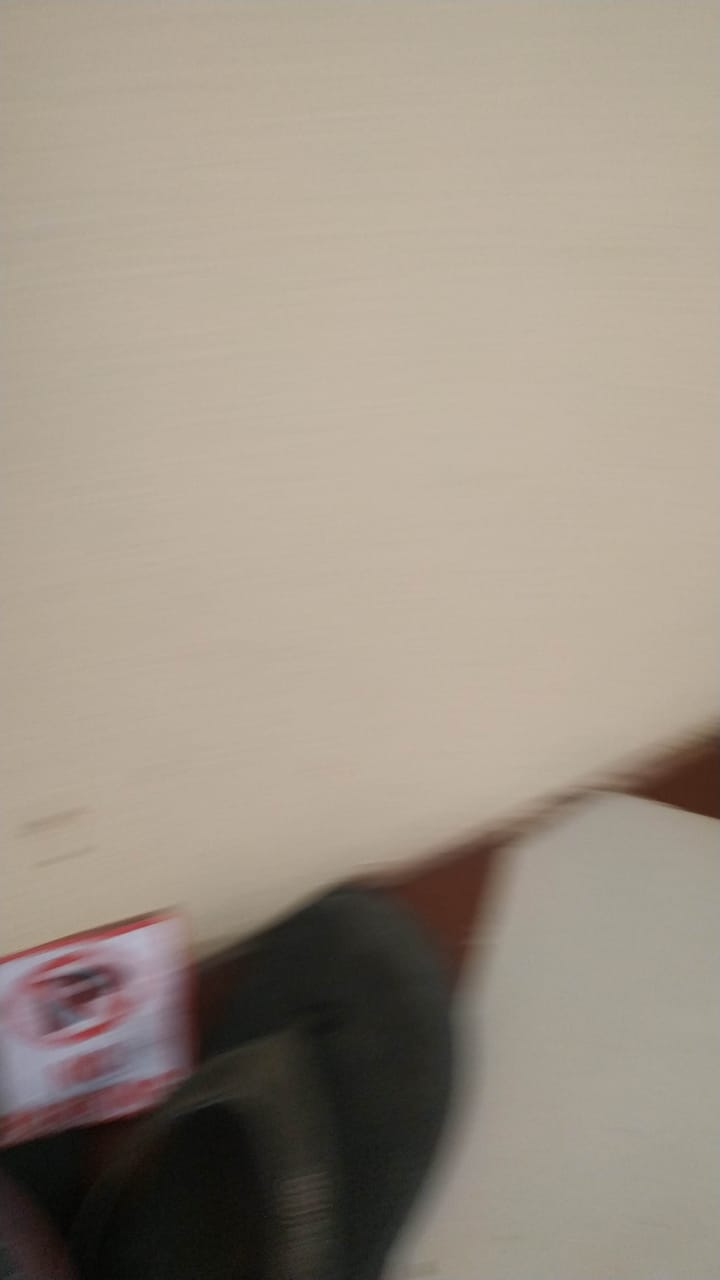NO PARKING: (1, 894, 205, 1161)
